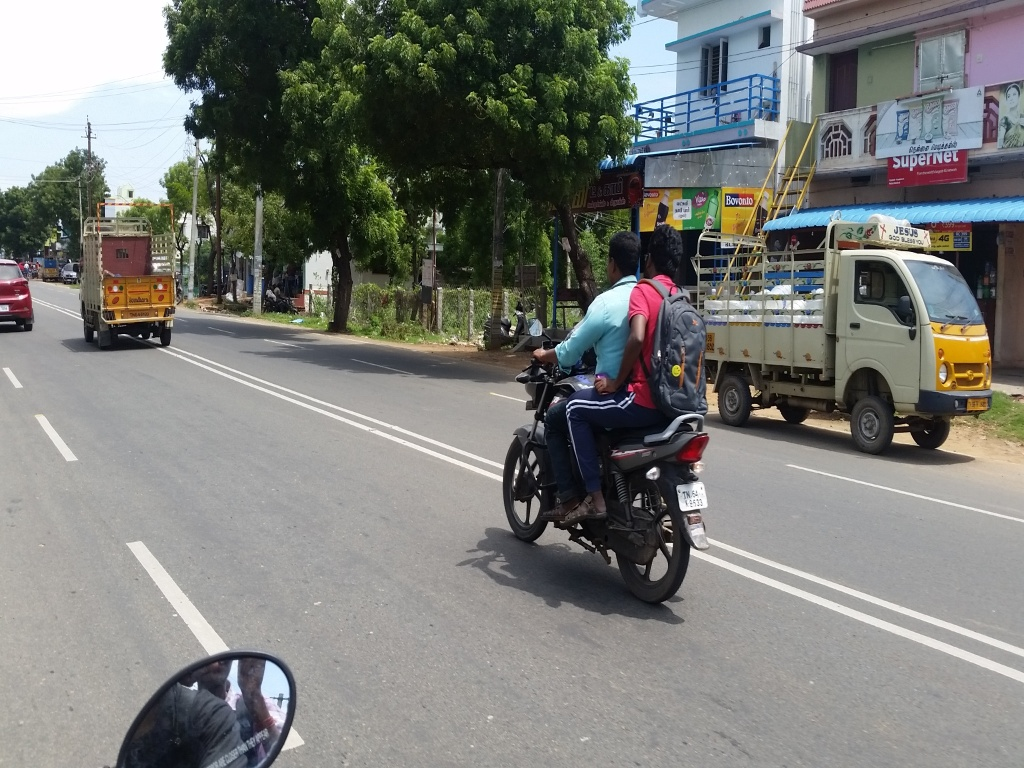biker: (484, 205, 754, 624)
nohelmet: (641, 221, 691, 287), (599, 224, 649, 290)
